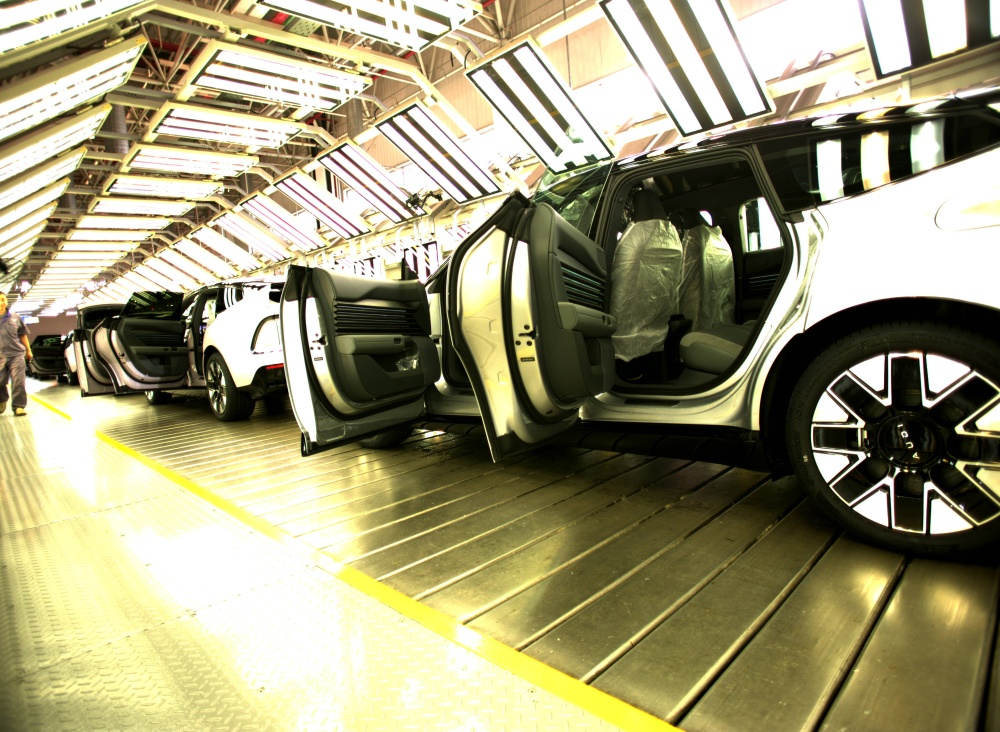armrest_color: (561, 302, 616, 338), (333, 333, 406, 356)
panel_color: (331, 296, 413, 336), (550, 258, 609, 302)
